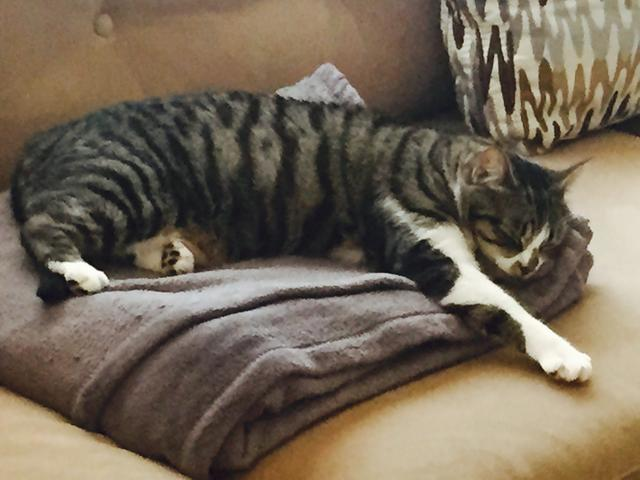playdoh: (13, 89, 597, 390)
